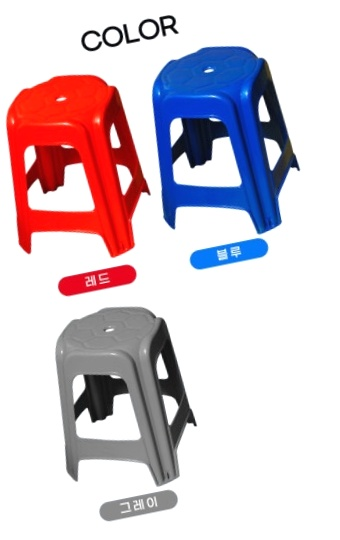plastic: (171, 60, 267, 229)
